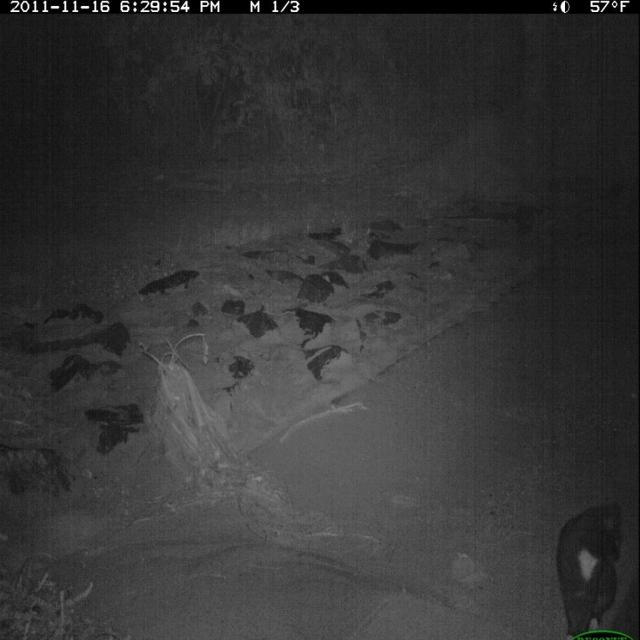cat: (536, 484, 626, 632)
